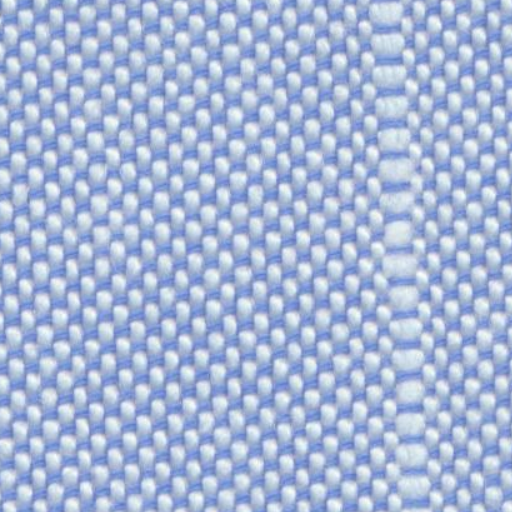TuoSha: (332, 19, 466, 494)
